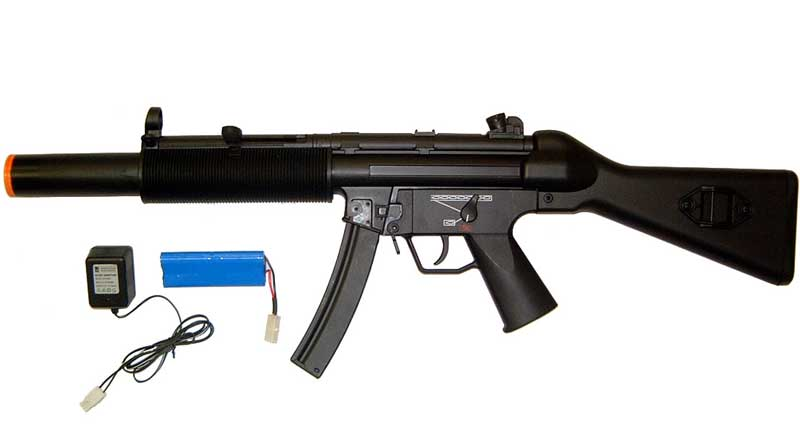rifle: (7, 86, 794, 384)
